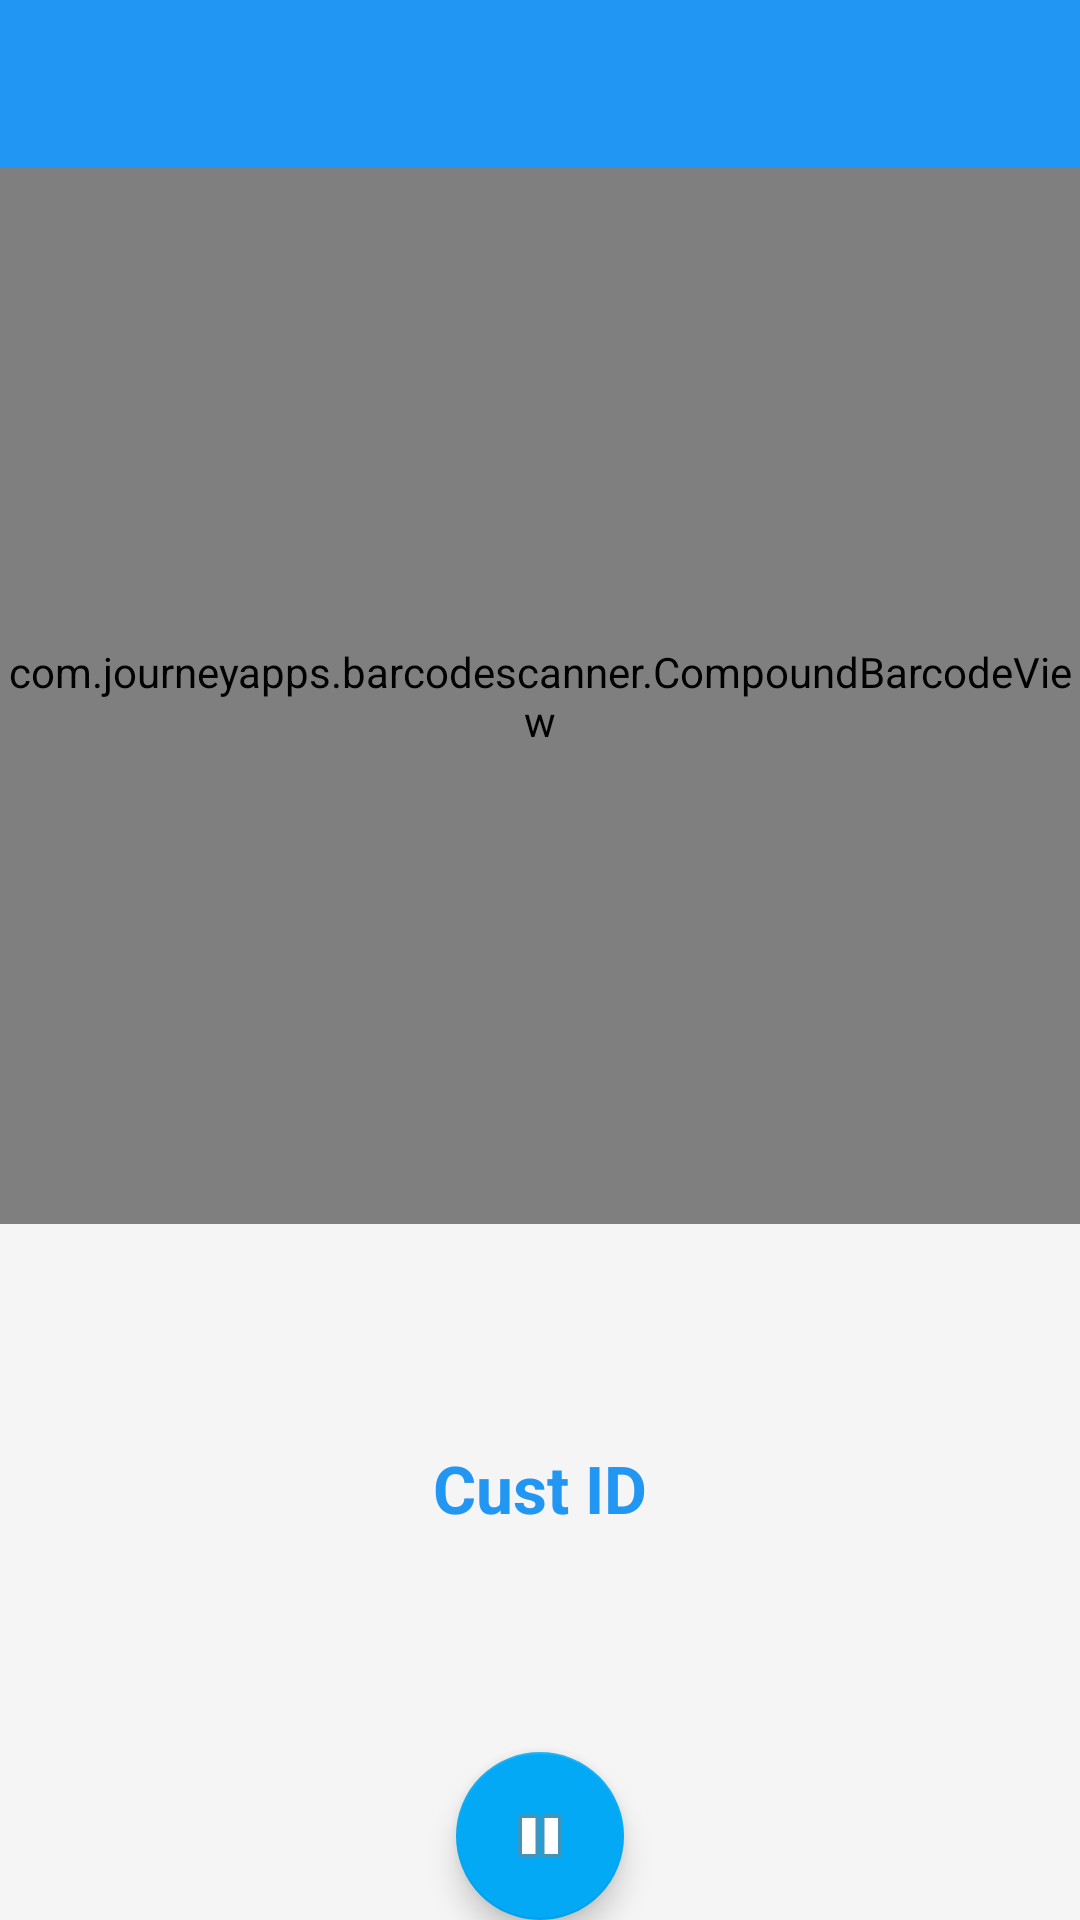

Screen size 1080w x 1920h. Icon name, then its center in pixels as (x=x, y=y):
pause: (x=540, y=1836)
